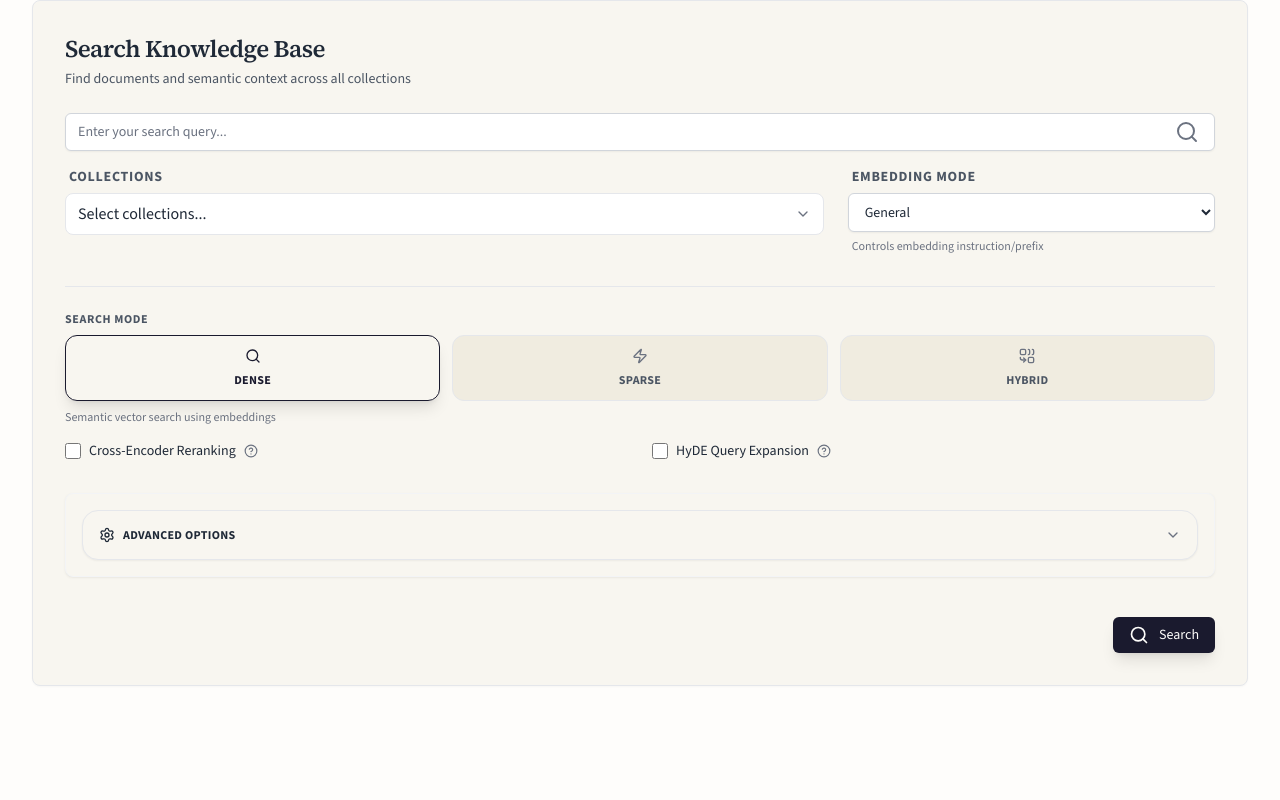
Test case: SearchInterface - Network Error Handling › should require search query
This screenshot has width=1280, height=800.
Note: Open collection dropdown and select a collection
Click the button "Select collections..." at (142, 214), box [65,193,824,235]
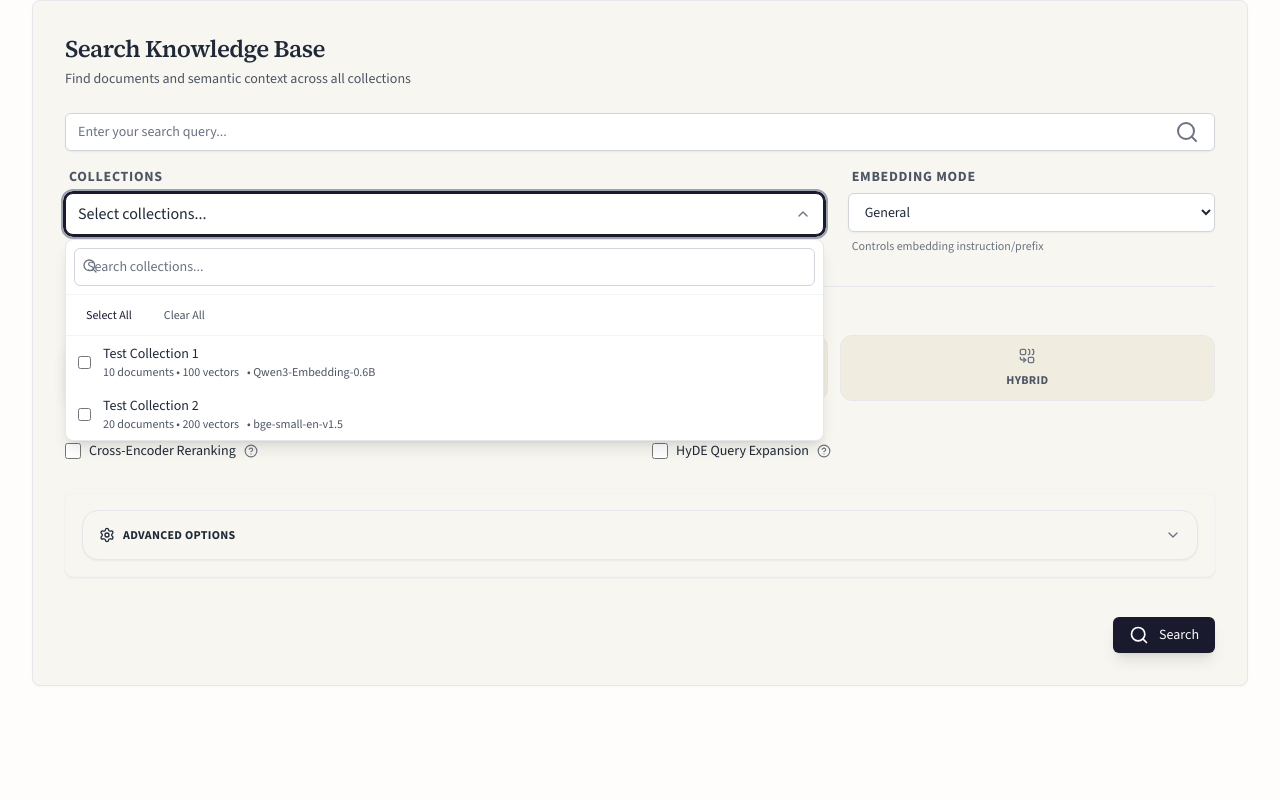
Click the text "Test Collection 1" at (151, 354), box [103,344,199,363]
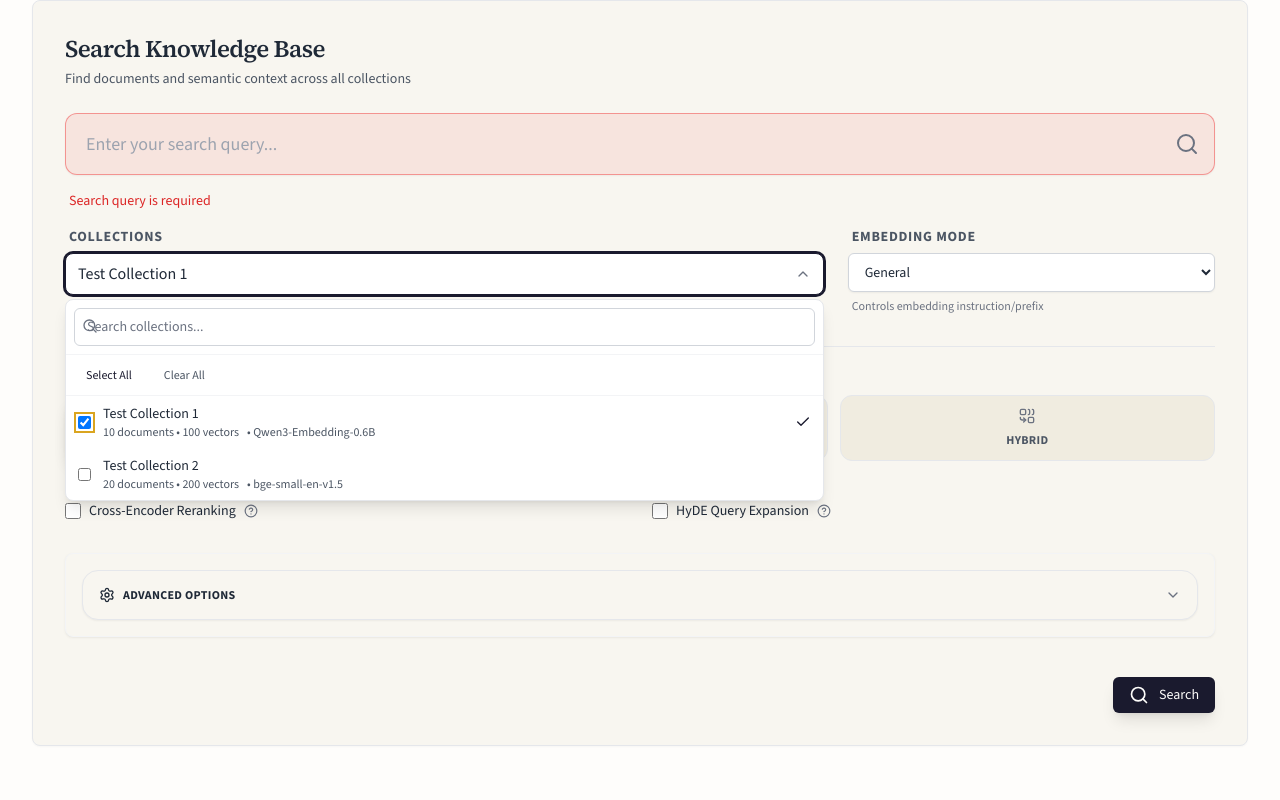
Note: Close dropdown by clicking outside
Type "test" into the field with placeholder "Enter your search query..." at (640, 144), box [65,113,1215,175]
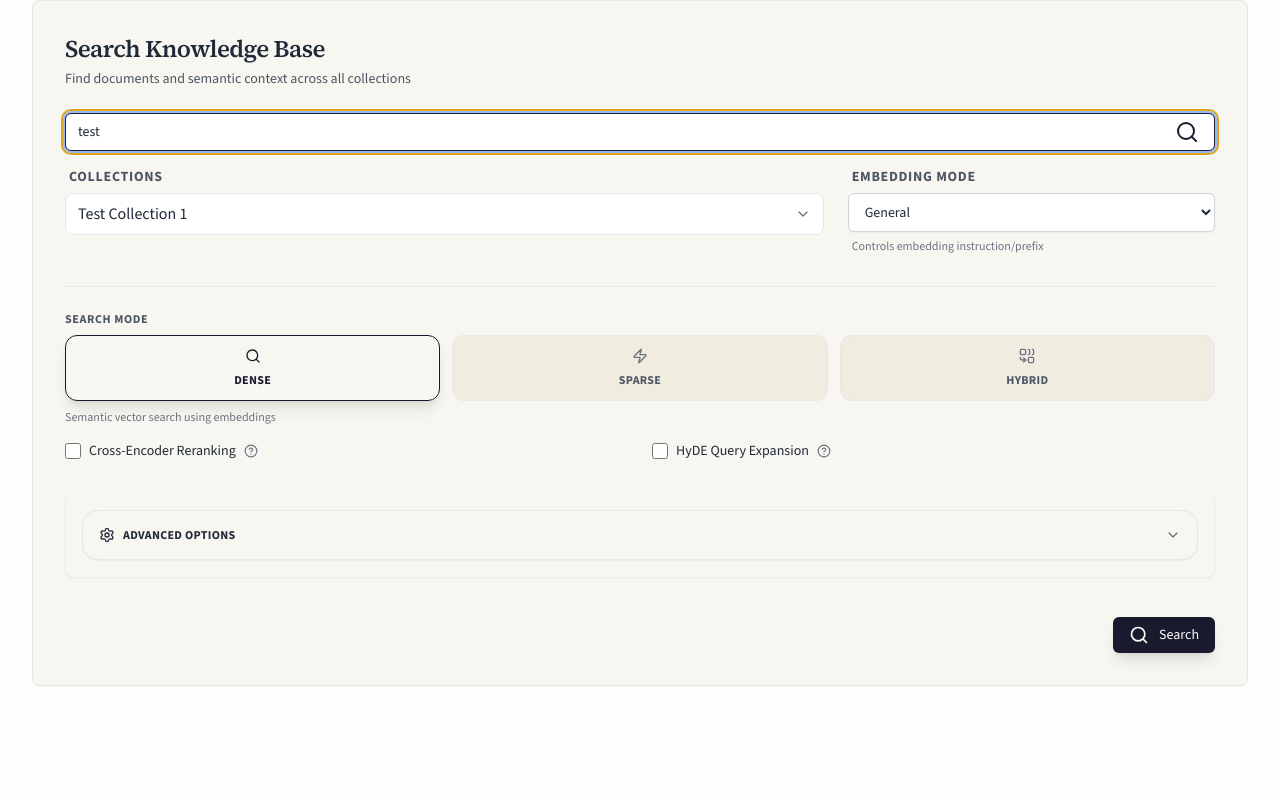
Clear the field with placeholder "Enter your search query..." at (640, 132), box [65,113,1215,151]
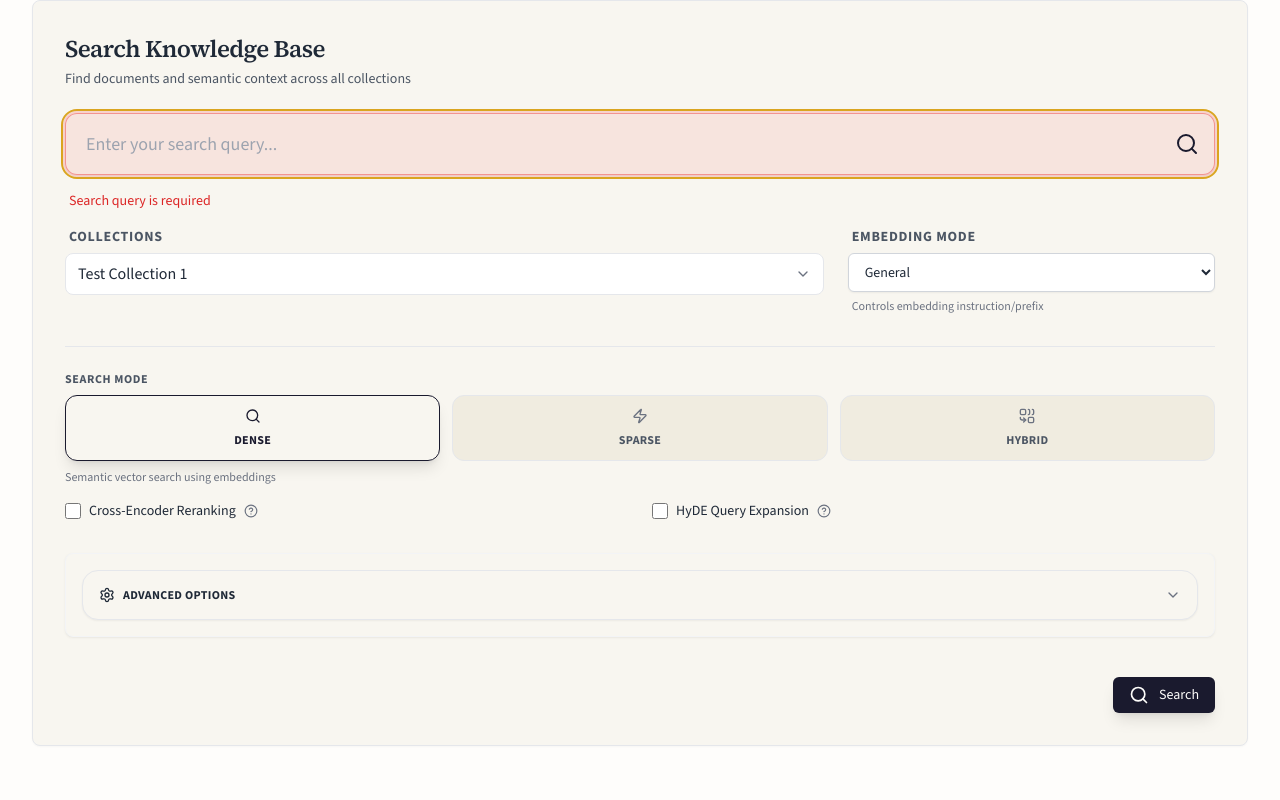
Expected: the button "Search" is enabled, [1113,677,1215,713]
Result: the text "Search query is required" is shown at [69,191,211,210]
